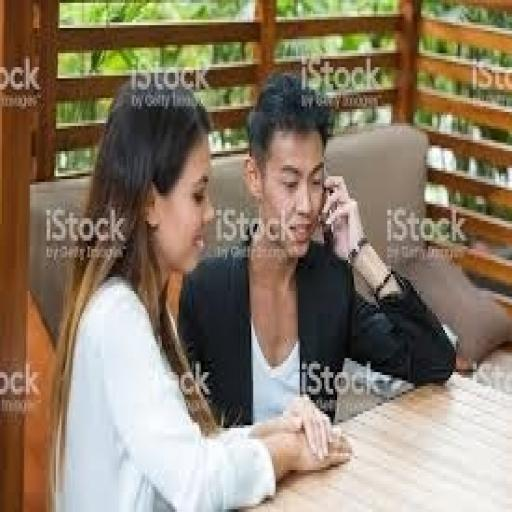calling: (44, 70, 354, 509), (175, 70, 456, 439)
